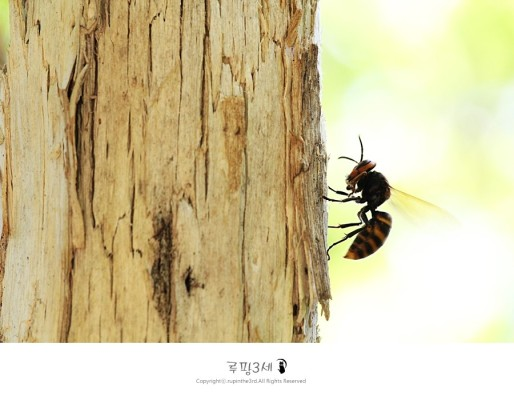asian_giant_hornet: (322, 130, 404, 263)
